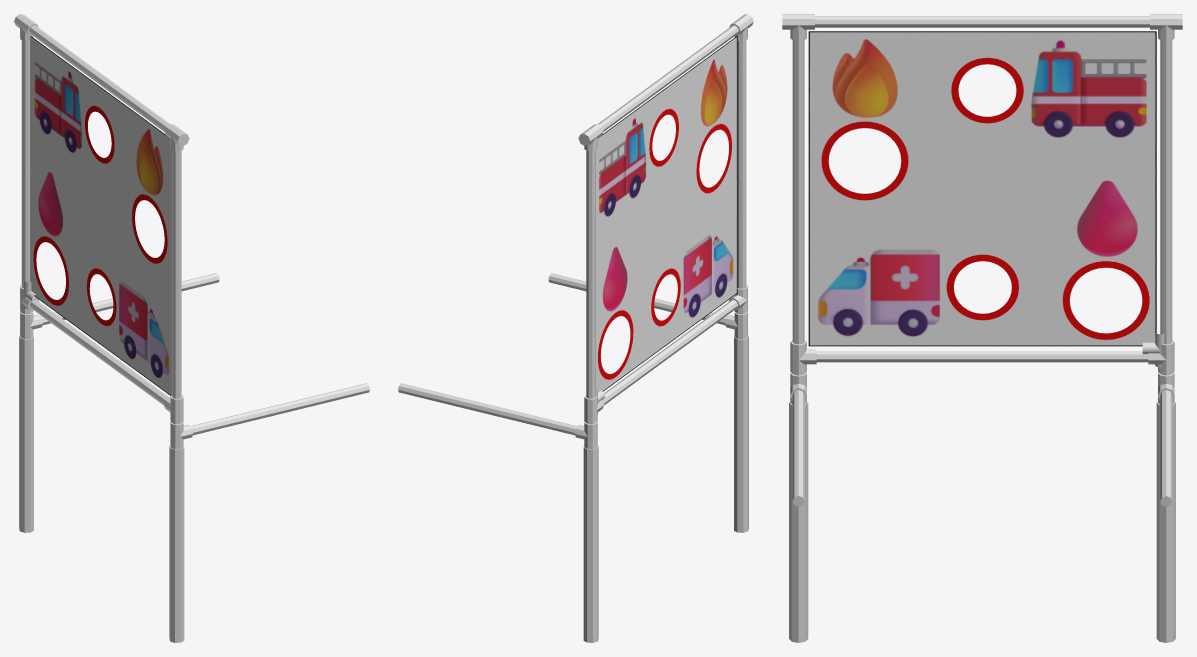
The model's file is torpedoMapping_2026_v1.glb.
3 renders of one model, left to right at view 1: azimuth 30°, elevation 25°; view 2: azimuth 150°, elevation 25°; view 3: azimuth 270°, elevation 25°, orthographic. The views are drawn at different scales.
Parts seen in each view (by area): view 1: Plane, Cylinder.006, Cylinder.005, Cylinder.003, Cylinder.015, Cylinder.001; view 2: Plane, Cylinder.006, Cylinder.003, Cylinder.005, Cylinder.001, Cylinder.015; view 3: Plane, Cylinder.006, Cylinder.005, Cylinder.003, Cylinder.015, Cylinder.001.
Part boxes in pixels (x1=…): Plane: x1=30, y1=36, x2=171, y2=395; Cylinder.006: x1=14, y1=14, x2=189, y2=423; Cylinder.005: x1=169, y1=445, x2=184, y2=642; Cylinder.003: x1=19, y1=335, x2=33, y2=532; Cylinder.015: x1=170, y1=383, x2=369, y2=449; Cylinder.001: x1=20, y1=273, x2=219, y2=339; Plane: x1=596, y1=36, x2=737, y2=391; Cylinder.006: x1=578, y1=14, x2=753, y2=423; Cylinder.003: x1=583, y1=445, x2=598, y2=642; Cylinder.005: x1=734, y1=335, x2=748, y2=532; Cylinder.001: x1=398, y1=383, x2=597, y2=449; Cylinder.015: x1=548, y1=273, x2=747, y2=339; Plane: x1=808, y1=31, x2=1156, y2=346; Cylinder.006: x1=782, y1=14, x2=1182, y2=374; Cylinder.005: x1=789, y1=402, x2=808, y2=642; Cylinder.003: x1=1156, y1=402, x2=1175, y2=642; Cylinder.015: x1=790, y1=372, x2=806, y2=506; Cylinder.001: x1=1158, y1=372, x2=1174, y2=506.
Size of the model in its own units: 0.4882 by 1.21 by 0.7017.
Materials: 3 (1 with a texture image).
